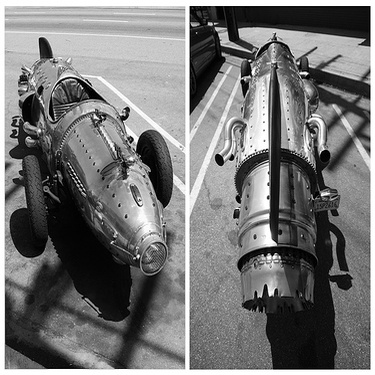car: (13, 38, 178, 302), (214, 39, 343, 316)
